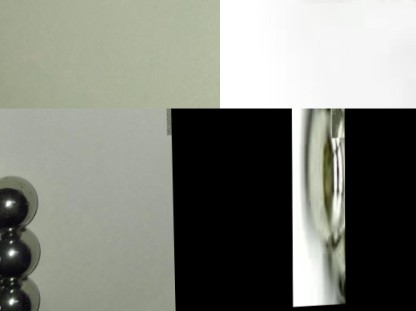ironball: (308, 108, 345, 267), (0, 224, 45, 283), (0, 172, 38, 229), (0, 272, 49, 309), (331, 108, 344, 139)
